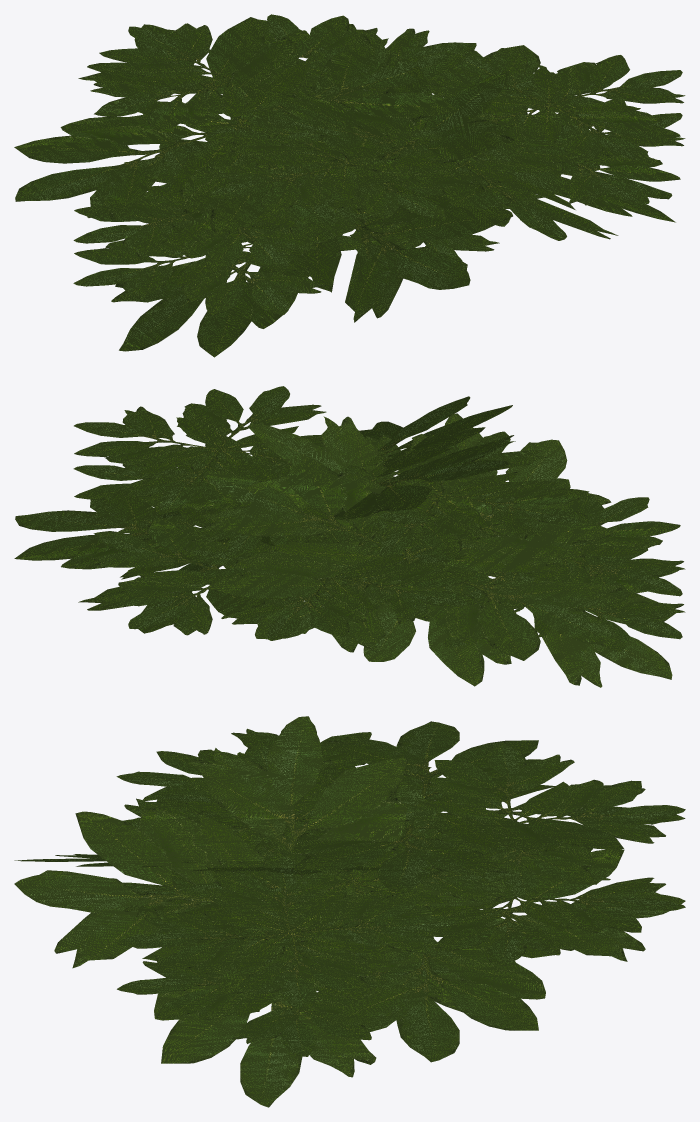
3 views of the same model, one above another, from view 1: azimuth 30°, elevation 25°; view 2: azimuth 150°, elevation 25°; view 3: azimuth 270°, elevation 25° (orthographic). The views are drawn at different scales.
Parts seen in each view (by area): view 1: SketchUp (×14); view 2: SketchUp (×12); view 3: SketchUp (×10).
Part boxes in pixels (box(x1,y1,x2,y2)): SketchUp (×14): box(14, 14, 685, 357); SketchUp (×12): box(14, 386, 685, 687); SketchUp (×10): box(14, 716, 685, 1107).
Bounding box in the file's own units: 200 × 179 × 59.95.
2 materials, 1 textured.
